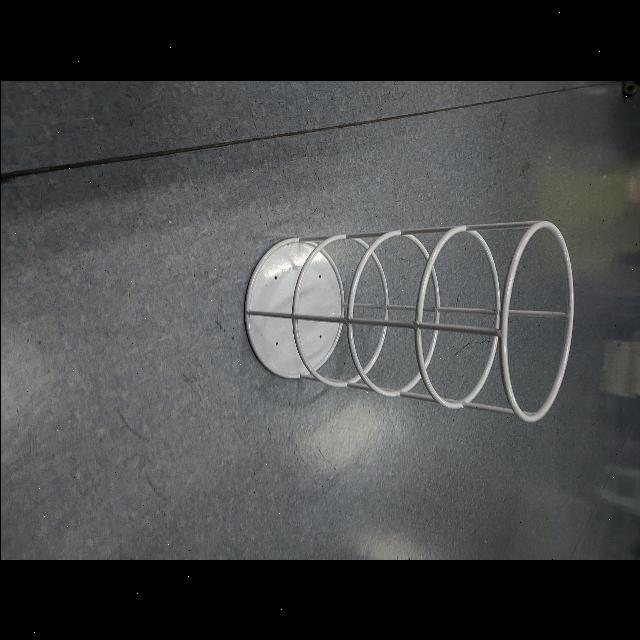S: (237, 218, 576, 424)
